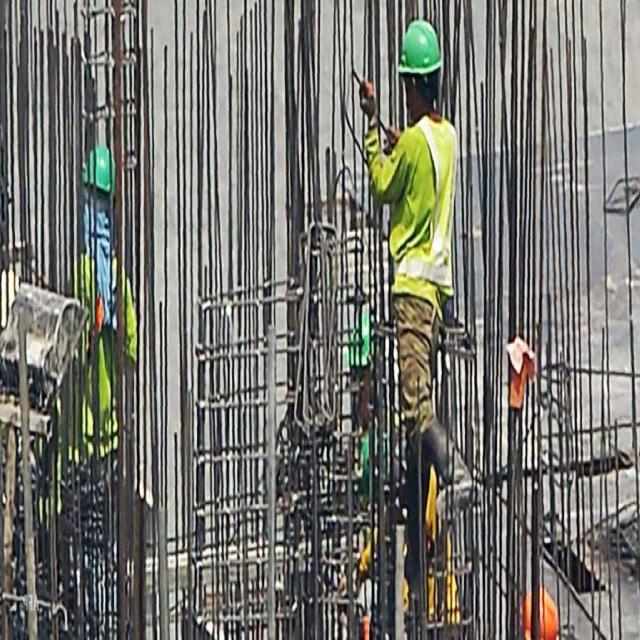Reflective-Jacket: (67, 248, 140, 462), (385, 112, 461, 313)
Safety-Helmet: (69, 129, 124, 207), (395, 15, 443, 79)
